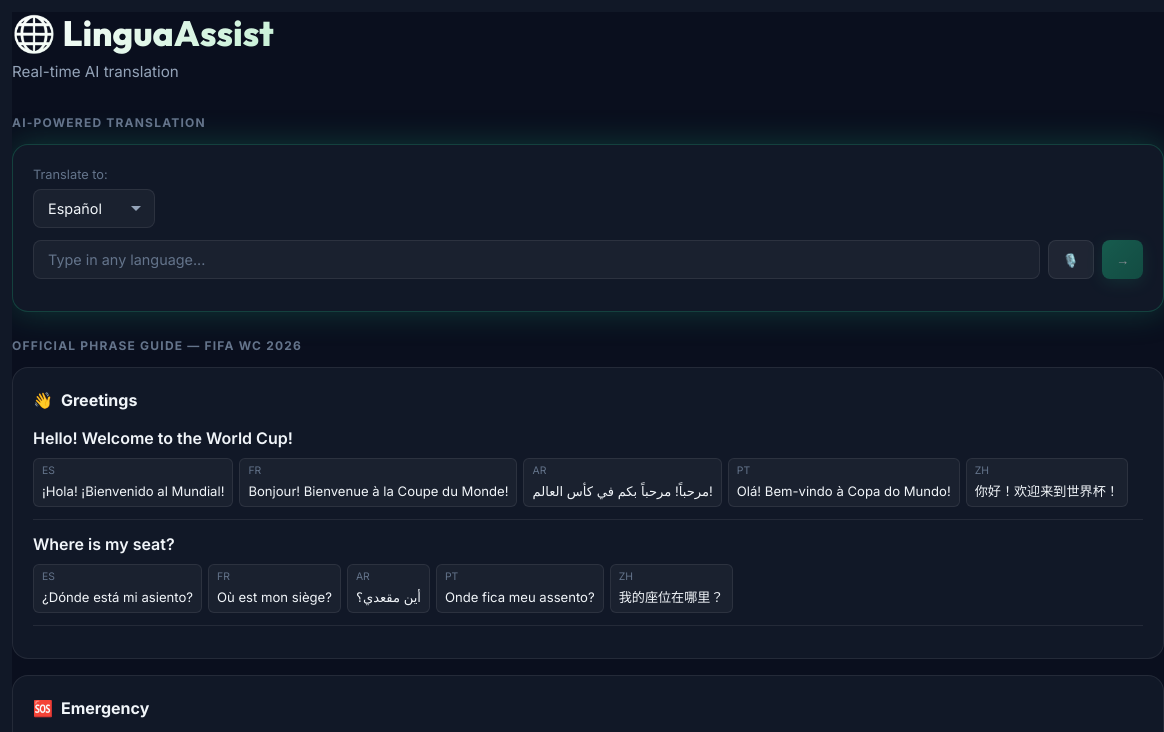
LinguaAssist › translate button becomes enabled when text is entered
Type "Hello" into the field named "Text to translate" at (536, 260), box x1=33 y1=240 x2=1040 y2=279
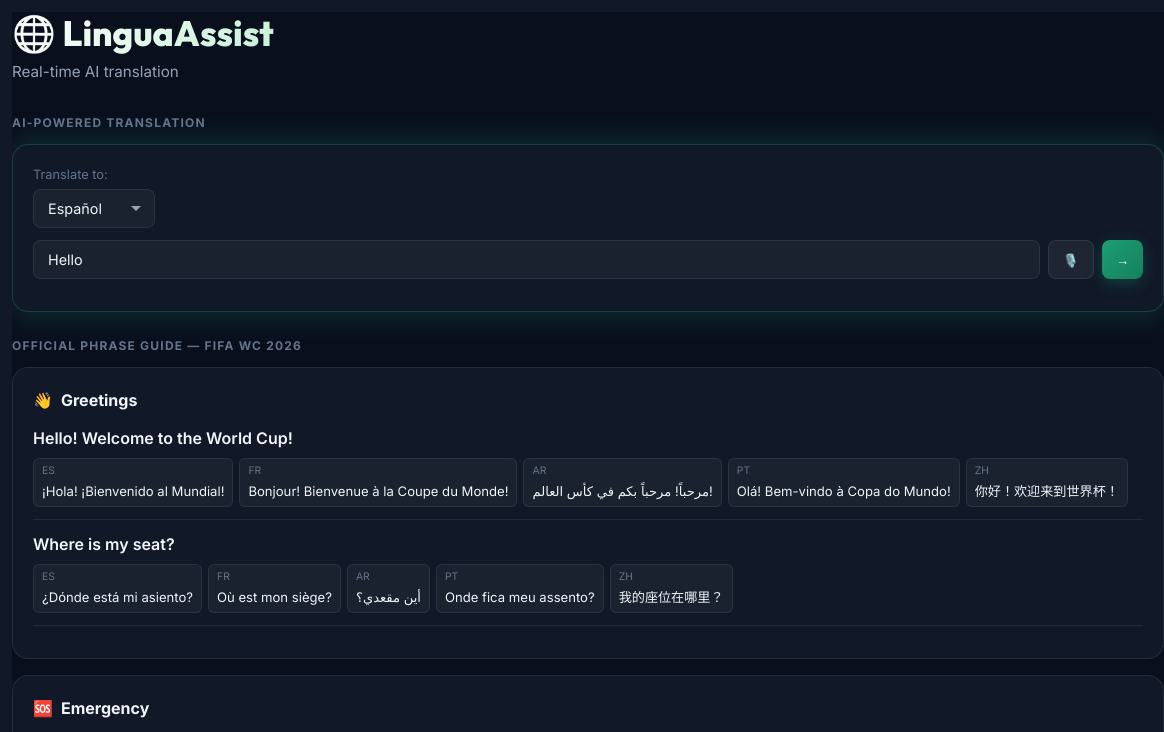
Expected: the button named "translate" is enabled, x1=1102 y1=240 x2=1143 y2=279
